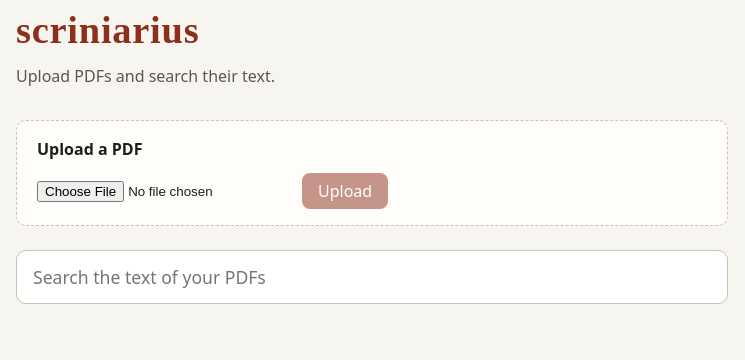
Test case: shows why a search failed, instead of no matches
This screenshot has width=745, height=360.
In the search field labelled "Search": (372, 277) [16,250,728,304], type "aardvark"
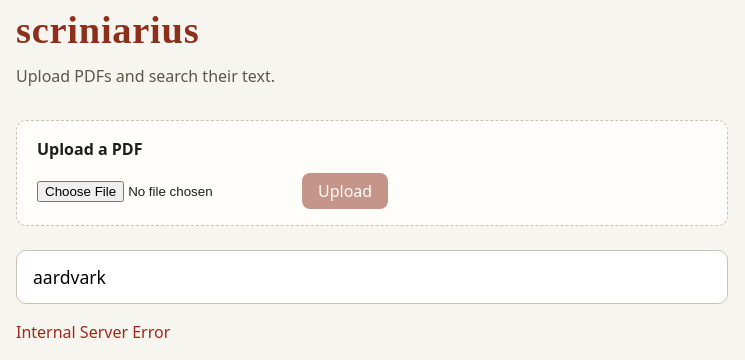
Expected: the message reads "Internal Server Error", [16,321,170,343]
